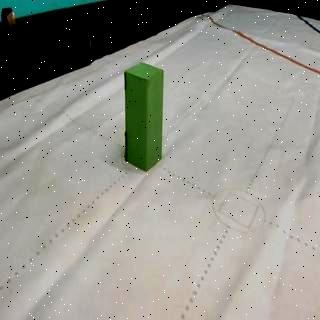greenbox: (125, 64, 165, 169)
